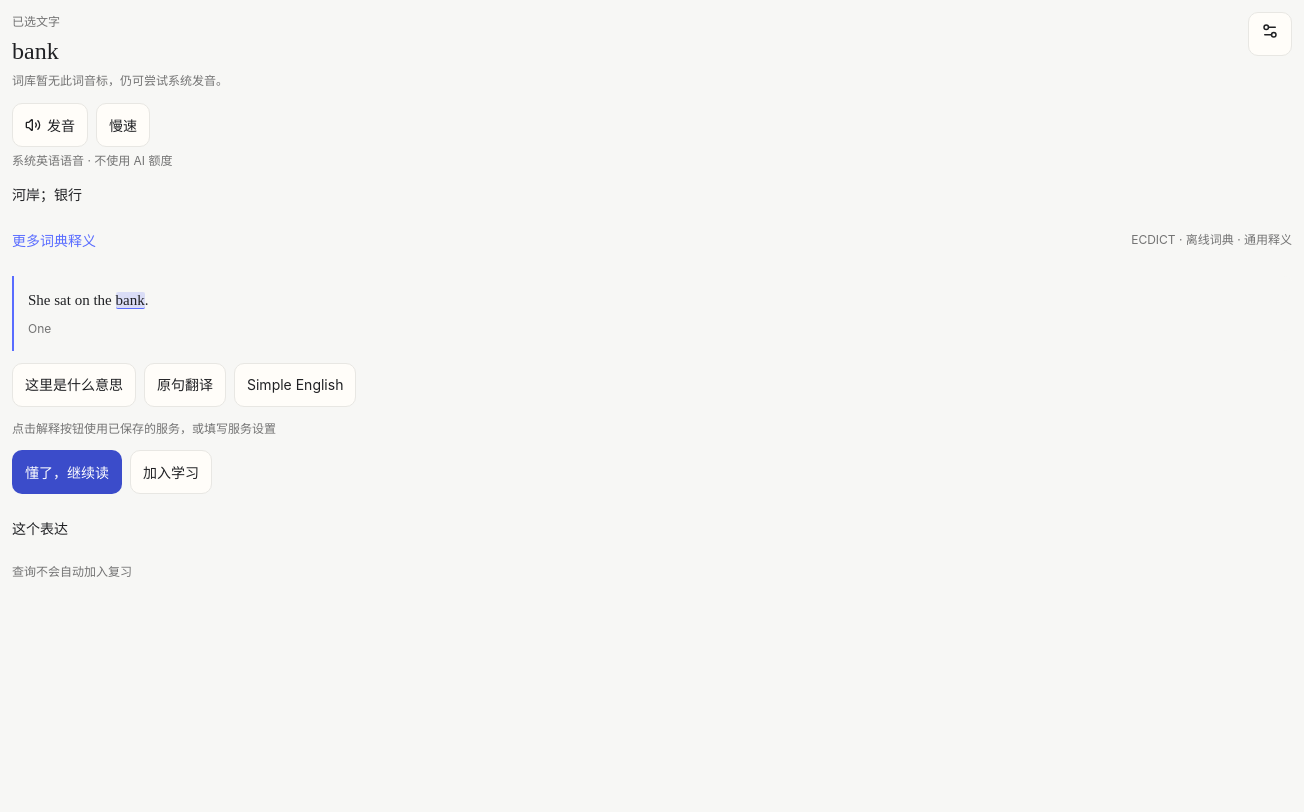
Scenario: lookup enrollment/removal preserves recognized and persists consistent mirrors
This screenshot has width=1304, height=812.
Click the button "加入学习" at (171, 472), box left=130, top=450, right=212, bottom=494
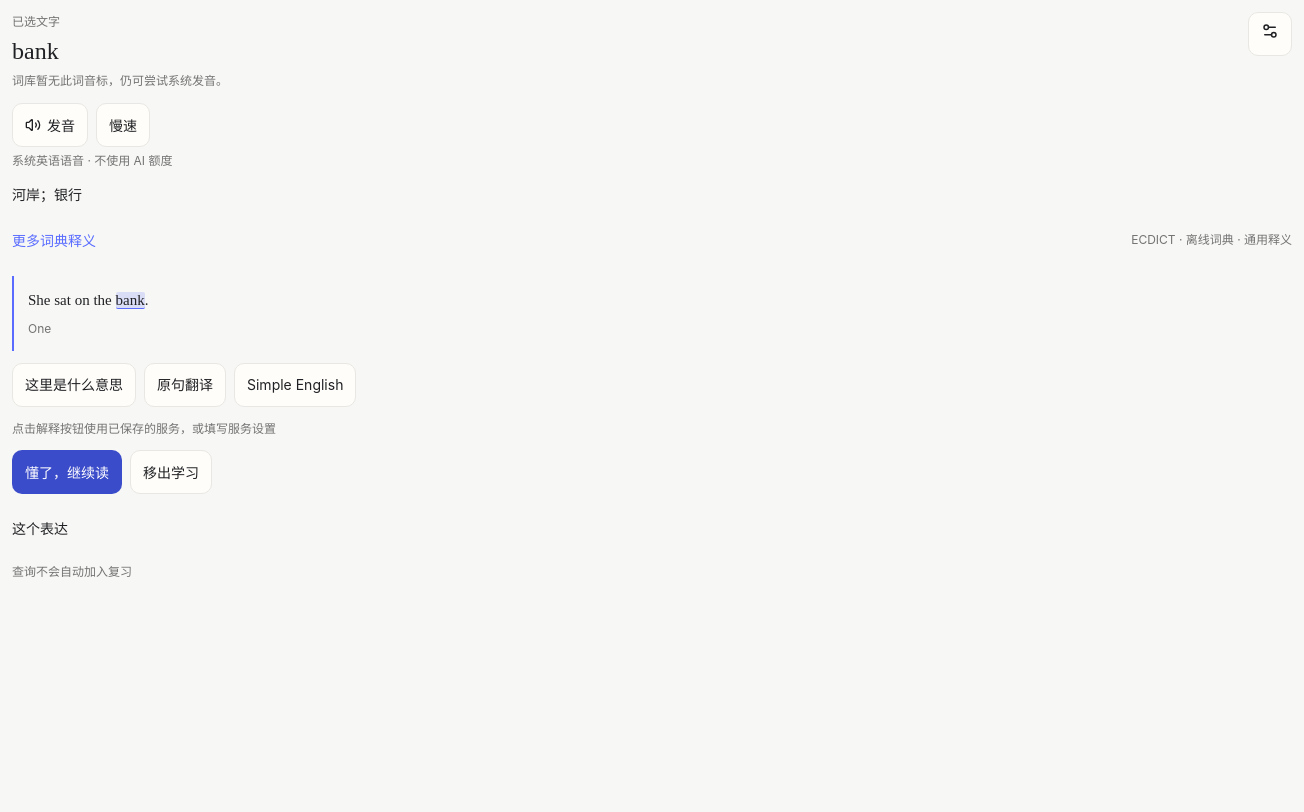
Now the element with class "learning-actions" shows "移出学习"
Click the button "移出学习" at (171, 472), box left=130, top=450, right=212, bottom=494
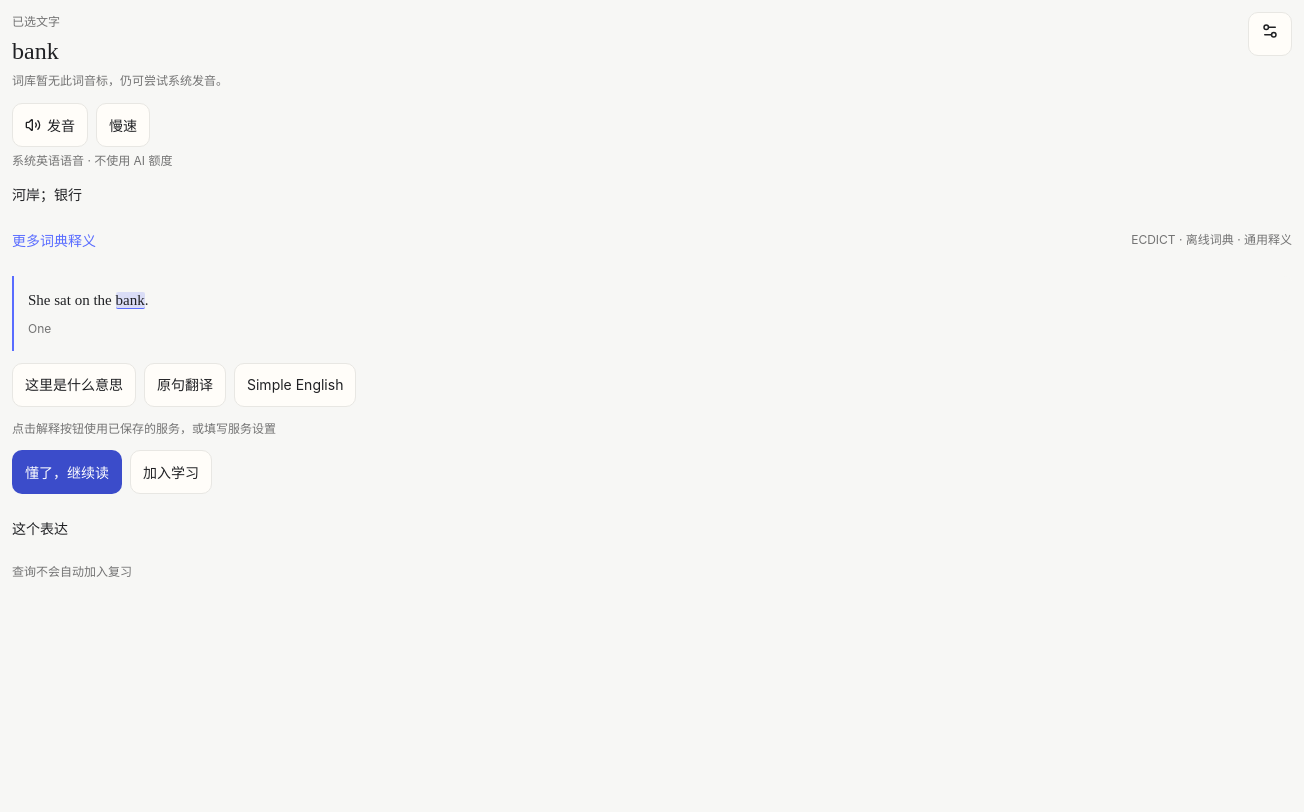
Now the element with class "learning-actions" shows "加入学习", box left=130, top=450, right=212, bottom=494
